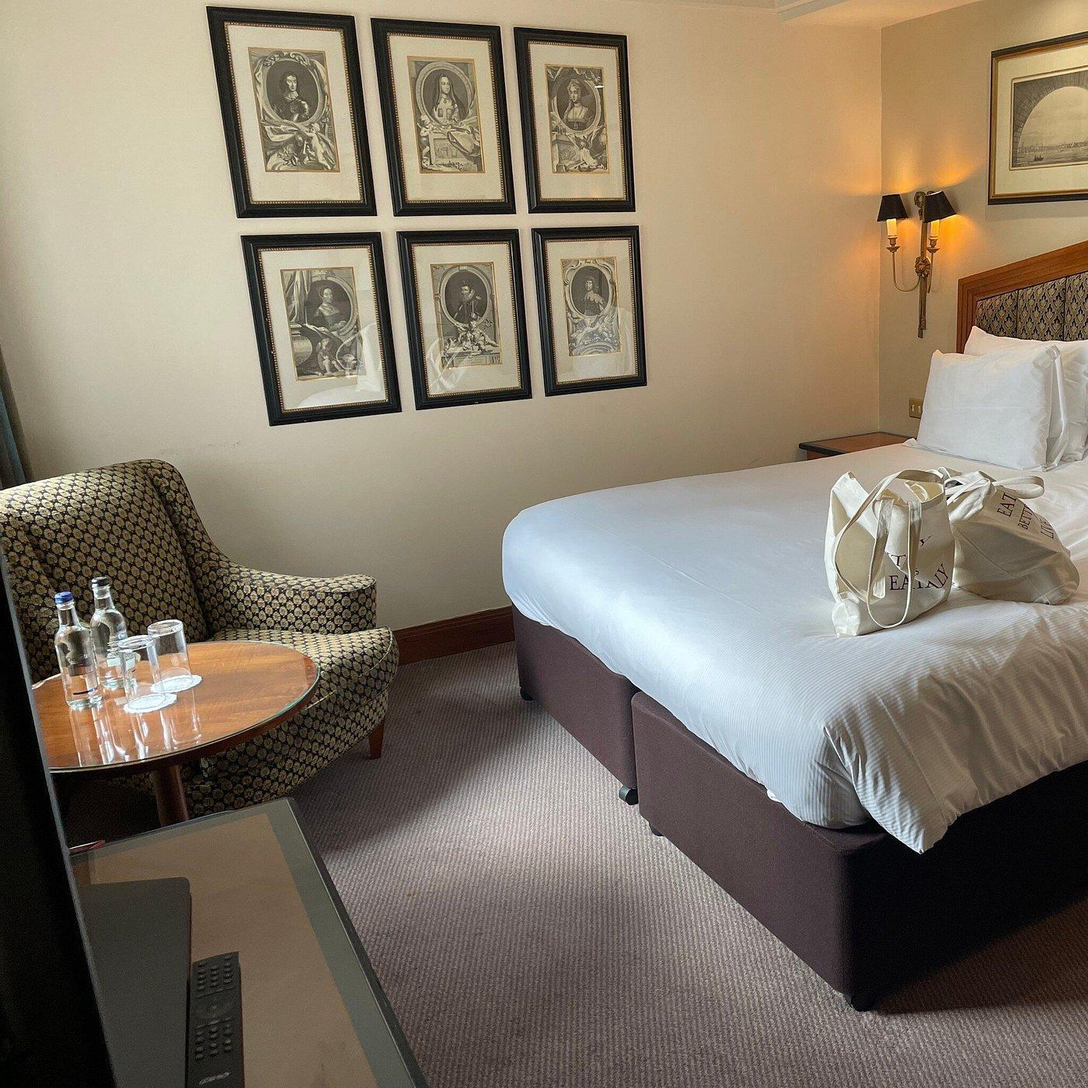chair: (6, 483, 395, 804)
clean_floor: (342, 768, 1088, 1088)
organised_pillow: (915, 336, 1088, 463)
organized table: (37, 623, 312, 762)
